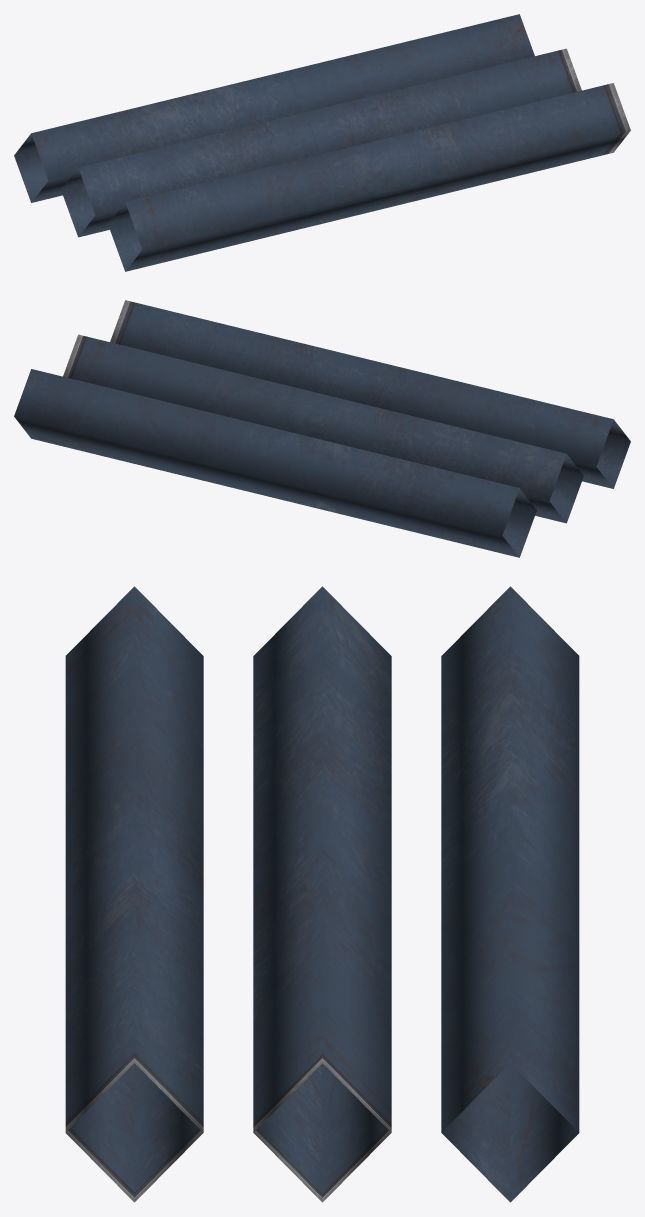
Rendered from Pipe3_C_L2.fbx.
The picture shows the model from 3 angles, top to bottom: view 1: azimuth 30°, elevation 25°; view 2: azimuth 150°, elevation 25°; view 3: azimuth 270°, elevation 25°; orthographic projection. The views are drawn at different scales.
Visible parts, largest first — view 1: PIpe3_C_L2; view 2: PIpe3_C_L2; view 3: PIpe3_C_L2.
Boxes of the visible parts, x1,y1,x2,y2 form: PIpe3_C_L2: (14,14,630,271); PIpe3_C_L2: (14,300,630,557); PIpe3_C_L2: (65,586,579,1202).
Size of the model in its own units: 100 by 13.66 by 45.56.
